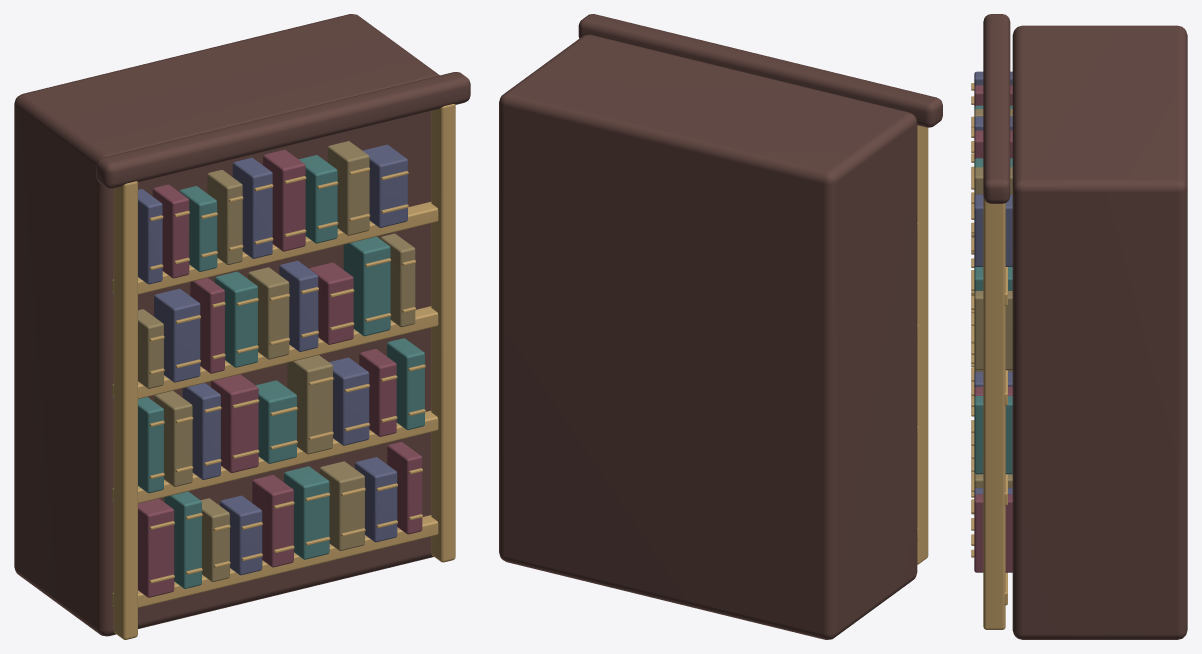
File: bookcase.glb
3 renders of one model, left to right at view 1: azimuth 30°, elevation 25°; view 2: azimuth 150°, elevation 25°; view 3: azimuth 270°, elevation 25°, orthographic. The views are drawn at different scales.
Visible parts, largest first — view 1: bookcase; view 2: bookcase; view 3: bookcase.
Boxes of the visible parts, x1=… form: bookcase: x1=14, y1=14, x2=470, y2=639; bookcase: x1=499, y1=14, x2=942, y2=639; bookcase: x1=971, y1=14, x2=1187, y2=639.
Bounding box in the file's own units: 1.8 × 2.29 × 0.9635.
